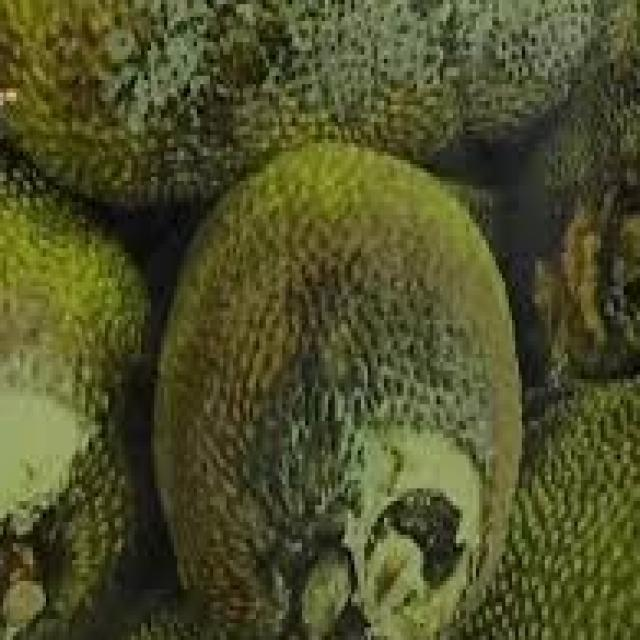inorganic: (162, 81, 545, 628), (10, 8, 614, 221), (0, 173, 130, 618), (537, 100, 627, 388)
